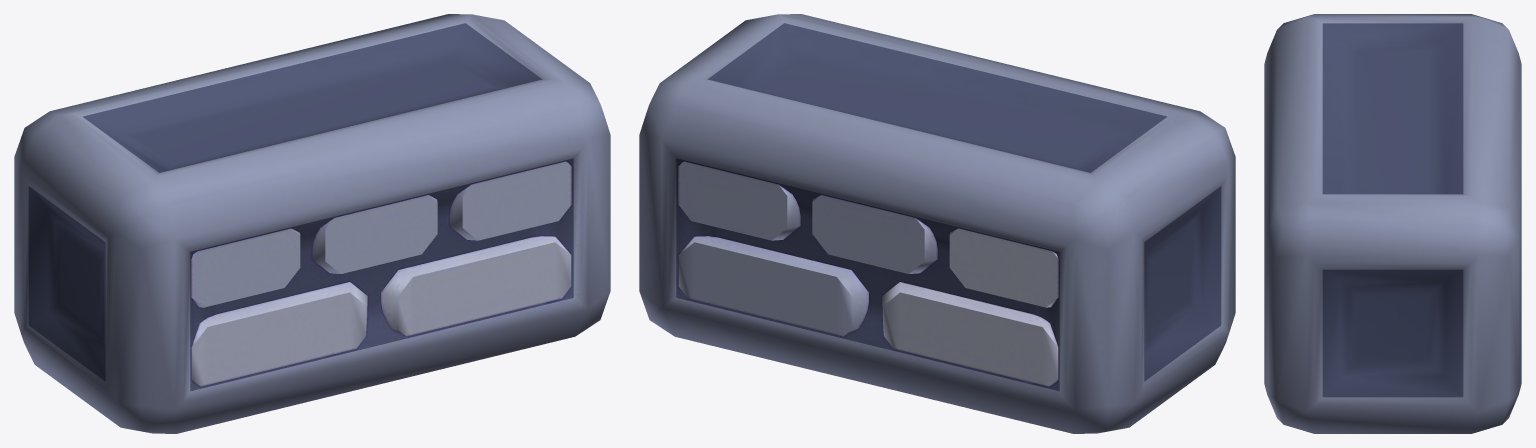
Rendered from tas2.glb.
The picture shows the model from 3 angles, left to right: view 1: azimuth 30°, elevation 25°; view 2: azimuth 150°, elevation 25°; view 3: azimuth 270°, elevation 25°; orthographic projection. The views are drawn at different scales.
Parts seen in each view (by area): view 1: tas2; view 2: tas2; view 3: tas2.
Boxes of the visible parts, x1,y1,x2,y2 form: tas2: [14, 14, 610, 433]; tas2: [639, 14, 1235, 433]; tas2: [1264, 14, 1521, 433].
Bounding box in the file's own units: 3.05 × 1.51 × 1.51.
Materials: 1 (1 with a texture image).
